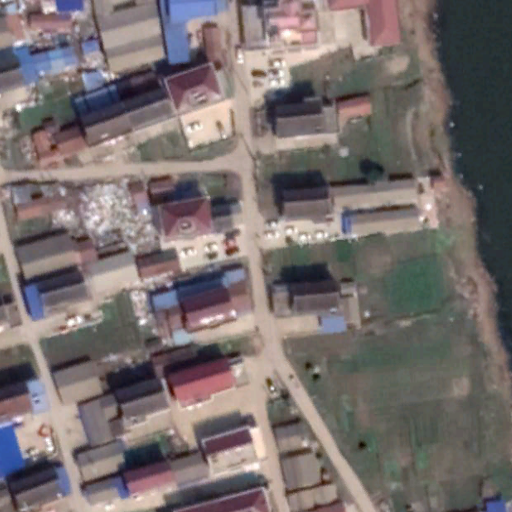msw: (43, 183, 153, 246)
